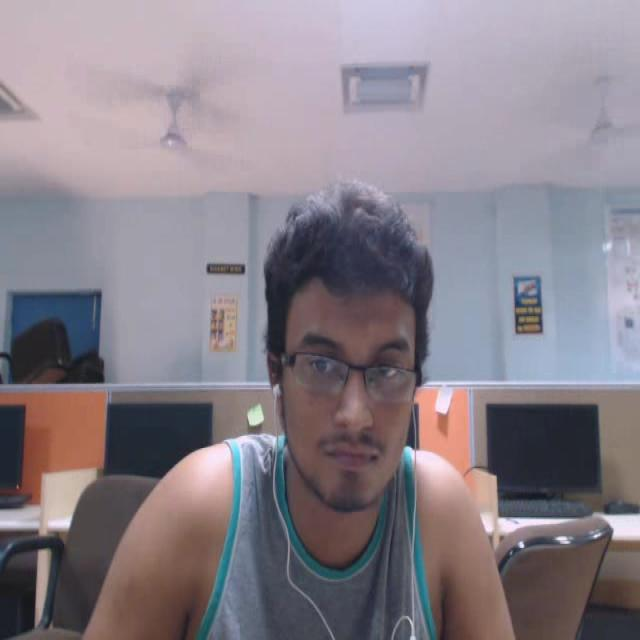Engaged: (236, 175, 474, 560)
